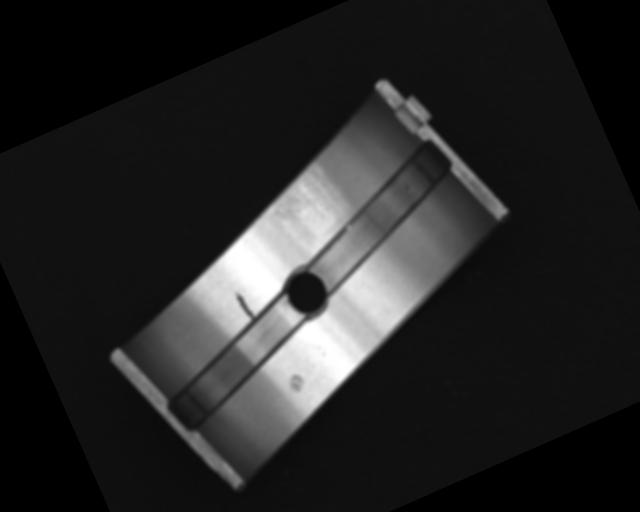bruise: (284, 369, 308, 395)
gap: (283, 143, 474, 295), (149, 297, 325, 432)
hole: (278, 265, 334, 322)
nick: (231, 285, 257, 324)
scratch: (258, 148, 349, 244)
